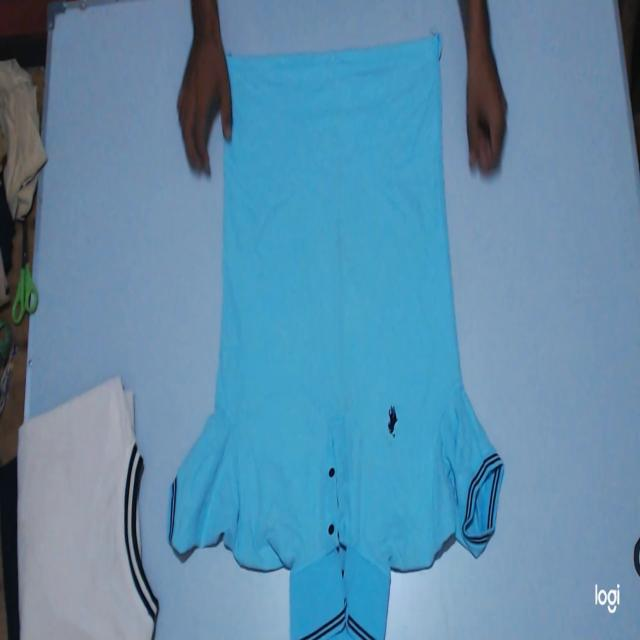new-garment: (170, 37, 504, 639)
